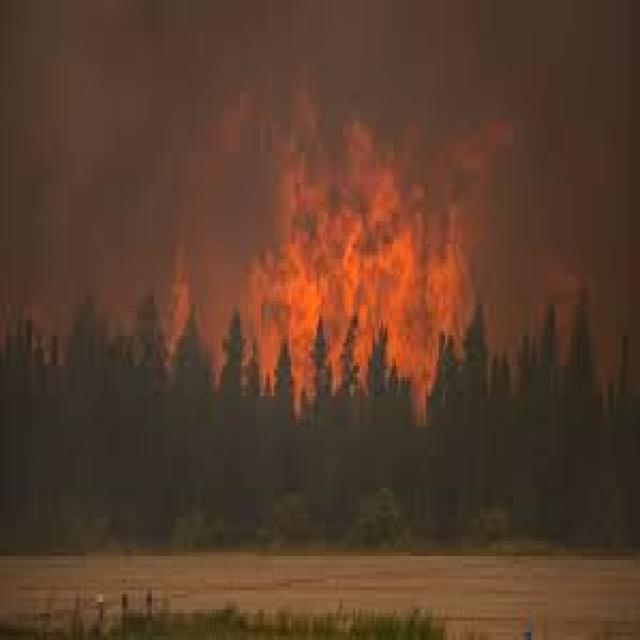Fire: (214, 128, 503, 409)
